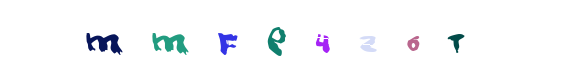4: (247, 0, 327, 80)
6: (283, 0, 363, 80)
E: (186, 0, 266, 80)
F: (176, 0, 256, 80)
M: (142, 0, 222, 80), (167, 0, 247, 80)
T: (373, 0, 453, 80)
Z: (266, 0, 346, 80)
